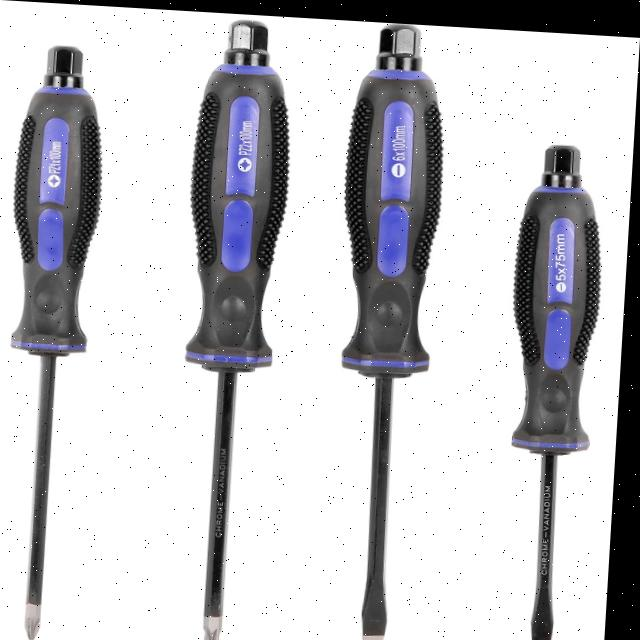Screwdriver: (190, 17, 291, 640), (347, 18, 444, 640), (15, 45, 104, 639), (517, 138, 604, 640)
